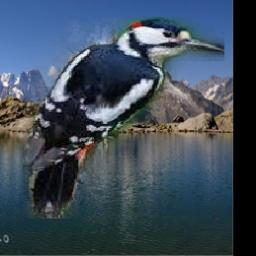Woodpecker: (23, 17, 224, 218)
